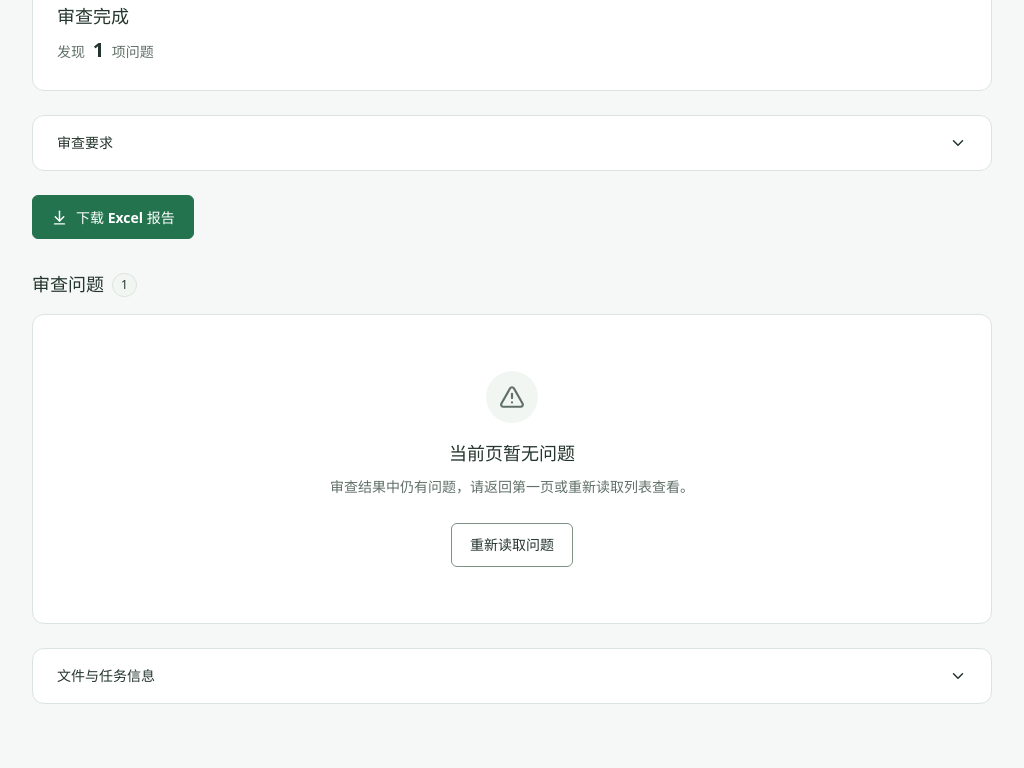
Test: review workspace › offers recovery instead of empty success when issue counts are 1 and 0
(page scrolled)
Expected: the heading "当前页暂无问题" is shown, [449,439,575,468]
Click the button "重新读取问题": (512, 545) [451,523,573,567]
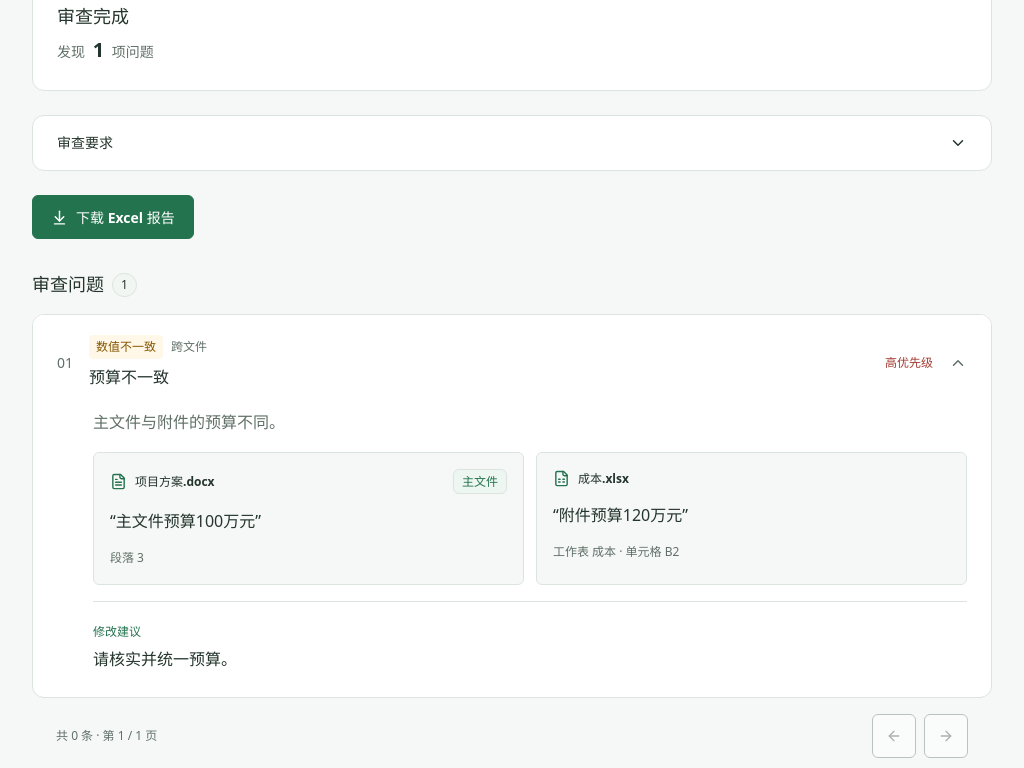
Now the button "预算不一致" is shown, box [33,315,991,410]
